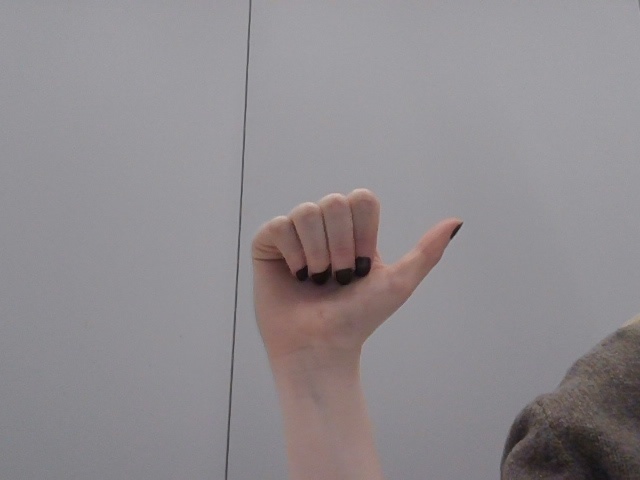left: (239, 177, 507, 359)
